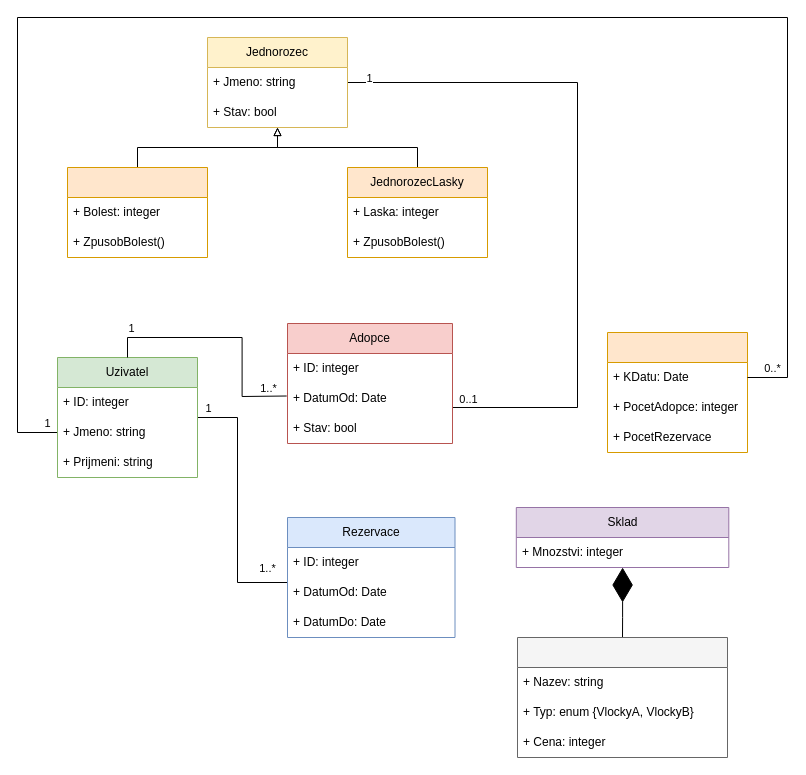
Image size: 806x775. Some labels were removed from this diagram. Here are the shapes that lost their labels. From the top down, the box of each, then its label:
(66, 166, 208, 258): JednorozecDrsny
(606, 332, 748, 452): Report
(516, 636, 728, 758): Zasoba
